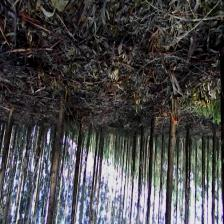trunk: (48, 96, 68, 204), (166, 100, 179, 214), (71, 124, 85, 214), (0, 112, 14, 180), (147, 118, 156, 204), (82, 125, 93, 188), (138, 127, 145, 206), (184, 127, 190, 218), (212, 124, 217, 199)
